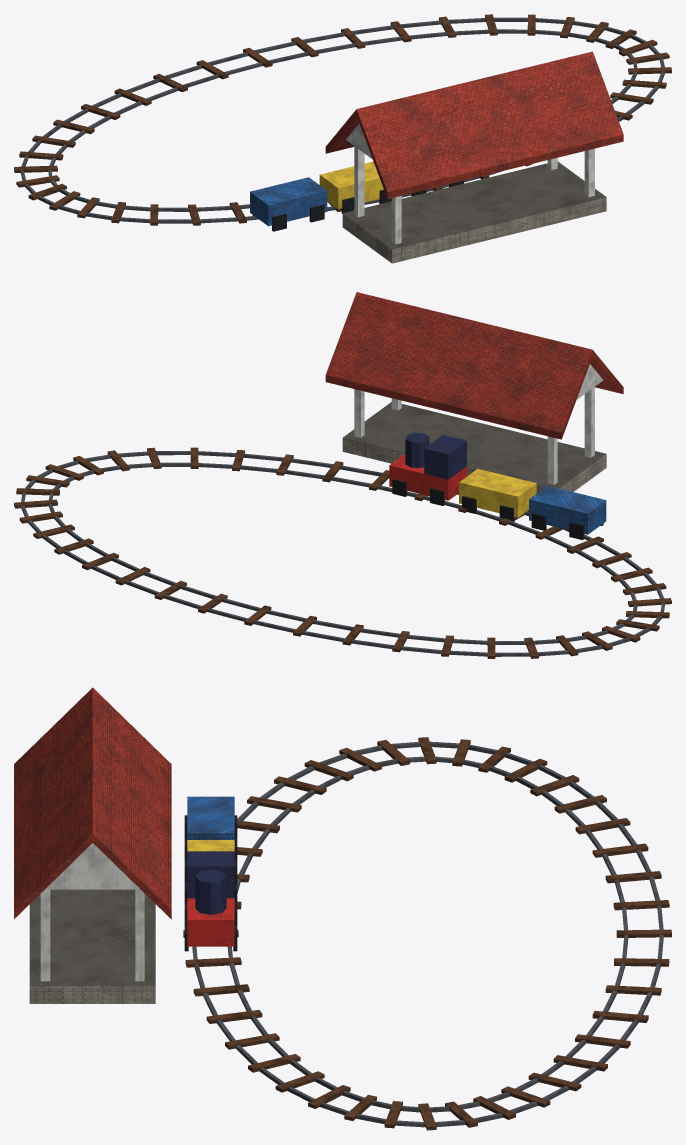
The model's file is Ride_FantasyDream.fbx.
The picture shows the model from 3 angles, top to bottom: view 1: azimuth 30°, elevation 25°; view 2: azimuth 150°, elevation 25°; view 3: azimuth 270°, elevation 25°; orthographic projection. The views are drawn at different scales.
Parts seen in each view (by area): view 1: StationShed, Rails, Train; view 2: StationShed, Rails, Train; view 3: StationShed, Rails, Train.
Part boxes in pixels (x1,y1,x2,y2): StationShed: [325, 51, 623, 263]; Rails: [14, 14, 671, 225]; Train: [250, 161, 463, 231]; StationShed: [325, 292, 623, 493]; Rails: [14, 447, 671, 658]; Train: [389, 432, 606, 540]; StationShed: [14, 687, 171, 1003]; Rails: [183, 737, 671, 1130]; Train: [184, 796, 237, 951].
Size of the model in its own units: 23.42 by 4.95 by 16.7.
